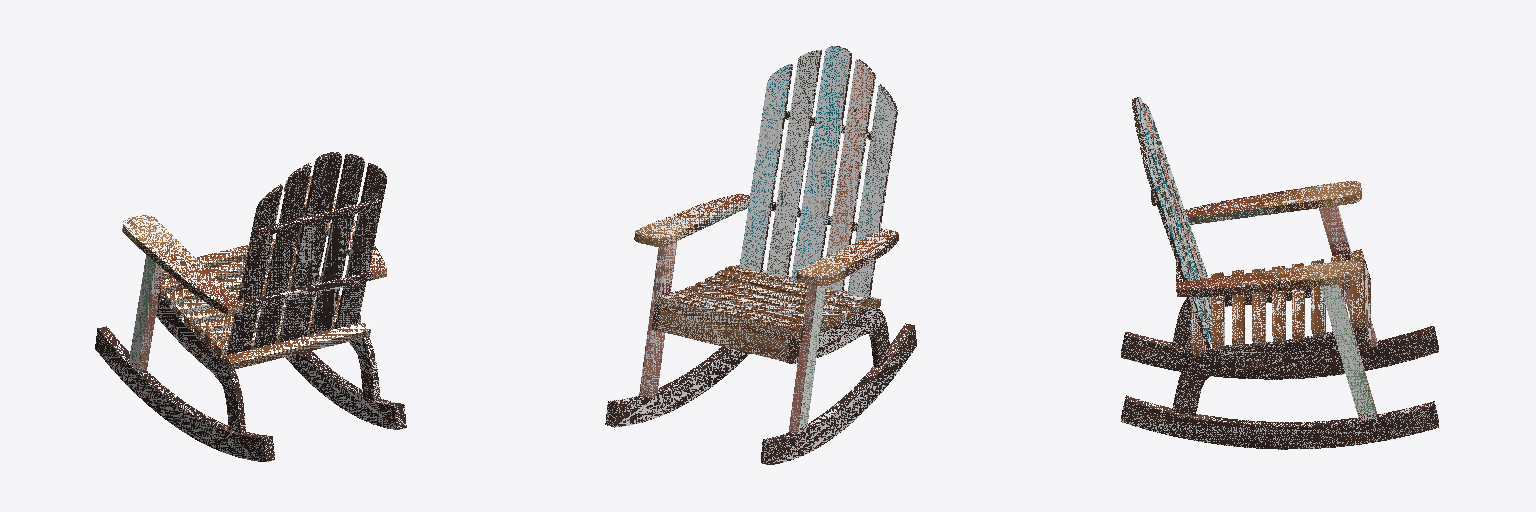
The picture shows the model from 3 angles: view 1: azimuth 30°, elevation 25°; view 2: azimuth 150°, elevation 25°; view 3: azimuth 270°, elevation 25°; orthographic projection.
Parts seen in each view (by area): view 1: mesh9_mesh9-geometry, mesh6_mesh6-geometry, mesh12_mesh12-geometry, mesh4_mesh4-geometry, mesh13_mesh13-geometry, mesh14_mesh14-geometry, mesh1_mesh1-geometry, mesh11_mesh11-geometry, mesh10_mesh10-geometry, mesh7_mesh7-geometry, mesh8_mesh8-geometry, mesh15_mesh15-geometry (+3 smaller); view 2: mesh9_mesh9-geometry, mesh12_mesh12-geometry, mesh14_mesh14-geometry, mesh6_mesh6-geometry, mesh10_mesh10-geometry, mesh13_mesh13-geometry, mesh11_mesh11-geometry, mesh1_mesh1-geometry, mesh8_mesh8-geometry, mesh5_mesh5-geometry, mesh4_mesh4-geometry, mesh7_mesh7-geometry (+1 smaller); view 3: mesh1_mesh1-geometry, mesh9_mesh9-geometry, mesh6_mesh6-geometry, mesh2_mesh2-geometry, mesh5_mesh5-geometry, mesh4_mesh4-geometry, mesh3_mesh3-geometry, mesh10_mesh10-geometry, mesh8_mesh8-geometry, mesh12_mesh12-geometry, mesh7_mesh7-geometry, mesh14_mesh14-geometry (+2 smaller).
Part boxes in pixels (x1,y1,x2,y2): mesh9_mesh9-geometry: (159, 238, 370, 370); mesh6_mesh6-geometry: (95, 326, 274, 461); mesh12_mesh12-geometry: (278, 152, 341, 342); mesh4_mesh4-geometry: (122, 215, 242, 314); mesh13_mesh13-geometry: (253, 163, 311, 348); mesh14_mesh14-geometry: (309, 154, 364, 334); mesh1_mesh1-geometry: (285, 351, 406, 429); mesh11_mesh11-geometry: (227, 184, 282, 354); mesh10_mesh10-geometry: (335, 163, 386, 328); mesh7_mesh7-geometry: (156, 295, 245, 433); mesh8_mesh8-geometry: (129, 255, 162, 372); mesh15_mesh15-geometry: (242, 271, 372, 311); mesh9_mesh9-geometry: (655, 265, 881, 361); mesh12_mesh12-geometry: (791, 46, 851, 281); mesh14_mesh14-geometry: (766, 50, 821, 278); mesh6_mesh6-geometry: (761, 323, 916, 464); mesh10_mesh10-geometry: (739, 64, 792, 272); mesh13_mesh13-geometry: (826, 59, 875, 292); mesh11_mesh11-geometry: (847, 84, 897, 298); mesh1_mesh1-geometry: (605, 347, 749, 427); mesh8_mesh8-geometry: (788, 284, 825, 433); mesh5_mesh5-geometry: (634, 194, 749, 246); mesh4_mesh4-geometry: (796, 229, 898, 285); mesh7_mesh7-geometry: (786, 308, 890, 367); mesh1_mesh1-geometry: (1121, 395, 1438, 449); mesh9_mesh9-geometry: (1191, 249, 1370, 356); mesh6_mesh6-geometry: (1121, 326, 1438, 379); mesh2_mesh2-geometry: (1172, 323, 1370, 415); mesh5_mesh5-geometry: (1176, 260, 1361, 296); mesh4_mesh4-geometry: (1185, 181, 1361, 224); mesh3_mesh3-geometry: (1321, 285, 1376, 422); mesh10_mesh10-geometry: (1140, 146, 1210, 349); mesh8_mesh8-geometry: (1319, 206, 1377, 347); mesh12_mesh12-geometry: (1132, 98, 1210, 322); mesh7_mesh7-geometry: (1172, 258, 1370, 349); mesh14_mesh14-geometry: (1134, 116, 1210, 335).
Size of the model in its own units: 0.4305 by 0.6621 by 0.6135.
Materials: 14 (13 with a texture image).